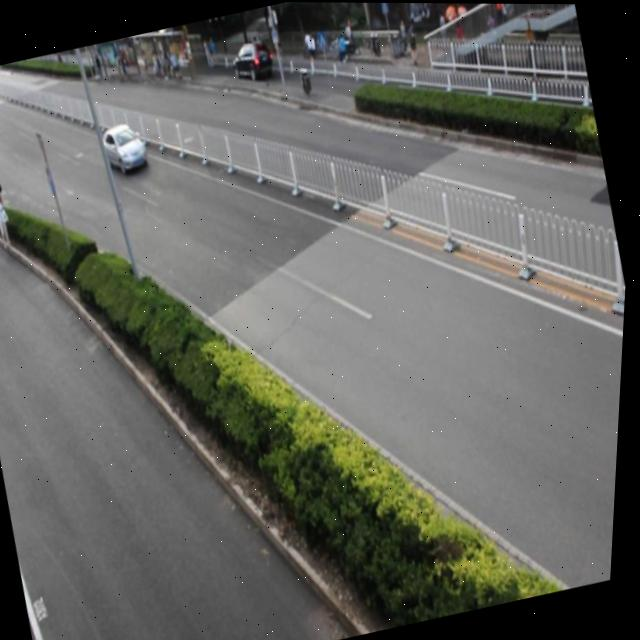car: (98, 120, 154, 179), (227, 37, 276, 84)
